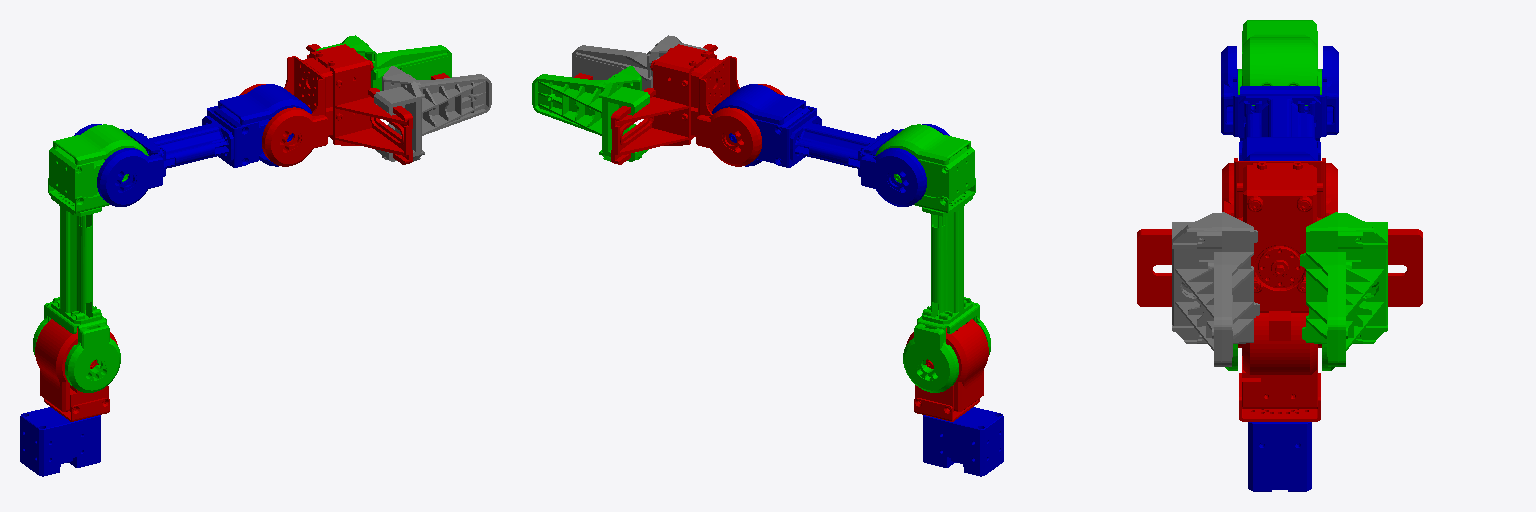
The robot description file, URDF, robot "open_manipulator":
<?xml version="1.0" ?>

<!-- ================================================================================================ -->
<!-- Note: This URDF file and associated content are based on files from the GitHub repository below. -->
<!--       Geometry files were converted as necessary to a format supported by Simscape Multibody.    -->
<!--       Adjustments were made to the URDF file for compatibility with Simscape Multibody.          -->
<!--                                                                                                  -->
<!--  GitHub source: https://github.com/ROBOTIS-GIT/open_manipulator/tree/2.0.1                       -->
<!-- ================================================================================================ -->

<!-- =================================================================================== -->
<!-- |    This document was autogenerated by xacro from open_manipulator.urdf.xacro    | -->
<!-- |    EDITING THIS FILE BY HAND IS NOT RECOMMENDED                                 | -->
<!-- =================================================================================== -->
<!--                                                                                                 -->
<!-- Note: This URDF file and associated content is based on files from the GitHub repository below. -->
<!--       Geometry files were converted as necessary to a format supported by Simscape Multibody.   -->
<!--       Adjustments were made to the URDF file for compatibility with Simscape Multibody.         -->
<!--                                                                                                 -->
<!-- GitHub source: https://github.com/ROBOTIS-GIT/open_manipulator/tree/2.0.1                       -->
<!--                                                                                                 -->
<!--                                                                                                 -->
<!-- Open_Manipulator Chain -->         
<robot name="open_manipulator" xmlns:xacro="http://ros.org/wiki/xacro">
  <!-- World -->
  <gazebo reference="world">
  </gazebo>
  <gazebo reference="link1">
    <kp>1000000.0</kp>
    <kd>100.0</kd>
    <mu1>30.0</mu1>
    <mu2>30.0</mu2>
    <maxVel>1.0</maxVel>
    <minDepth>0.001</minDepth>
    <material>Gazebo/DarkGrey</material>
  </gazebo>
  <gazebo reference="link2">
    <kp>1000000.0</kp>
    <kd>100.0</kd>
    <mu1>30.0</mu1>
    <mu2>30.0</mu2>
    <maxVel>1.0</maxVel>
    <minDepth>0.001</minDepth>
    <material>Gazebo/DarkGrey</material>
  </gazebo>
  <gazebo reference="link3">
    <kp>1000000.0</kp>
    <kd>100.0</kd>
    <mu1>30.0</mu1>
    <mu2>30.0</mu2>
    <maxVel>1.0</maxVel>
    <minDepth>0.001</minDepth>
    <material>Gazebo/DarkGrey</material>
  </gazebo>
  <gazebo reference="link4">
    <kp>1000000.0</kp>
    <kd>100.0</kd>
    <mu1>30.0</mu1>
    <mu2>30.0</mu2>
    <maxVel>1.0</maxVel>
    <minDepth>0.001</minDepth>
    <material>Gazebo/DarkGrey</material>
  </gazebo>
  <gazebo reference="link5">
    <kp>1000000.0</kp>
    <kd>100.0</kd>
    <mu1>30.0</mu1>
    <mu2>30.0</mu2>
    <maxVel>1.0</maxVel>
    <minDepth>0.001</minDepth>
    <material>Gazebo/DarkGrey</material>
  </gazebo>
  <gazebo reference="gripper_link">
    <kp>1000000.0</kp>
    <kd>100.0</kd>
    <mu1>30.0</mu1>
    <mu2>30.0</mu2>
    <maxVel>1.0</maxVel>
    <minDepth>0.001</minDepth>
    <material>Gazebo/DarkGrey</material>
  </gazebo>
  <gazebo reference="gripper_link_sub">
    <kp>1000000.0</kp>
    <kd>100.0</kd>
    <mu1>30.0</mu1>
    <mu2>30.0</mu2>
    <maxVel>1.0</maxVel>
    <minDepth>0.001</minDepth>
    <material>Gazebo/DarkGrey</material>
  </gazebo>
  <!-- end effector link -->
  <gazebo reference="end_effector_link">
    <material>Gazebo/Red</material>
  </gazebo>
  <!-- ros_control plugin -->
  <gazebo>
    <plugin filename="libgazebo_ros_control.so" name="gazebo_ros_control">
      <robotNamespace>open_manipulator</robotNamespace>
      <controlPeriod>0.001</controlPeriod>
      <robotSimType>gazebo_ros_control/DefaultRobotHWSim</robotSimType>
    </plugin>
  </gazebo>
  <material name="black">
    <color rgba="0.0 0.0 0.0 1.0"/>
  </material>
  <material name="white">
    <color rgba="1.0 1.0 1.0 1.0"/>
  </material>
  <material name="red">
    <color rgba="0.8 0.0 0.0 1.0"/>
  </material>
  <material name="blue">
    <color rgba="0.0 0.0 0.8 1.0"/>
  </material>
  <material name="green">
    <color rgba="0.0 0.8 0.0 1.0"/>
  </material>
  <material name="grey">
    <color rgba="0.5 0.5 0.5 1.0"/>
  </material>
  <material name="orange">
    <color rgba="1.0 0.423529411765 0.0392156862745 1.0"/>
  </material>
  <material name="brown">
    <color rgba="0.870588235294 0.811764705882 0.764705882353 1.0"/>
  </material>
  <!-- World -->
  <link name="world">
  </link>
  <!-- World fixed joint-->
  <joint name="world_fixed" type="fixed">
    <origin rpy="0 0 0" xyz="0 0 0"/>
    <parent link="world"/>
    <child link="link1"/>
  </joint>
  <!-- Link 1 -->
  <link name="link1">
    <visual>
      <origin rpy="0 0 0" xyz="0 0 0"/>
      <geometry>
        <mesh filename="robOpMa_chain_link1.stl"/>
      </geometry>
      <material name="blue"/>
    </visual>
    <collision>
      <origin rpy="0 0 0" xyz="0 0 0"/>
      <geometry>
        <mesh filename="package://open_manipulator_description/meshes/chain_link1.stl"/>
      </geometry>
    </collision>
    <!--    <inertial>
      <origin xyz="0 0 0" />
      <mass value="0.082" />
      <inertia ixx="0.1" ixy="0.0" ixz="0.0"
               iyy="0.1" iyz="0.0"
               izz="0.1" />
    </inertial>-->
    <inertial>
      <origin xyz="3.0876154e-04 0.0000000e+00 -1.2176461e-04"/>
      <mass value="7.9119962e-02"/>
      <inertia ixx="1.2505234e-05" ixy="0.0" ixz="-1.7855208e-07" iyy="2.1898364e-05" iyz="0.0" izz="1.9267361e-05"/>
    </inertial>
  </link>
  <!-- Joint 1 -->
  <joint name="joint1" type="revolute">
    <parent link="link1"/>
    <child link="link2"/>
    <origin rpy="0 0 0" xyz="0.012 0.0 0.017"/>
    <axis xyz="0 0 1"/>
    <limit effort="1" lower="-2.82743338823" upper="2.82743338823" velocity="4.8"/>
  </joint>
  <transmission name="tran1">
    <type>transmission_interface/SimpleTransmission</type>
    <joint name="joint1">
      <hardwareInterface>hardware_interface/PositionJointInterface</hardwareInterface>
    </joint>
    <actuator name="motor1">
      <hardwareInterface>hardware_interface/PositionJointInterface</hardwareInterface>
      <mechanicalReduction>1</mechanicalReduction>
    </actuator>
  </transmission>
  <!--  Link 2 -->
  <link name="link2">
    <visual>
      <origin rpy="0 0 0" xyz="0 0 0.019"/>
      <geometry>
        <mesh filename="robOpMa_chain_link2.stl"/>
      </geometry>
      <material name="red"/>
    </visual>
    <collision>
      <origin rpy="0 0 0" xyz="0 0 0.019"/>
      <geometry>
        <mesh filename="package://open_manipulator_description/meshes/chain_link2.stl"/>
      </geometry>
    </collision>
    <!--    <inertial>
      <origin xyz="0 0 0" />
      <mass value="0.098" />
      <inertia ixx="0.1" ixy="0.0" ixz="0.0"
               iyy="0.1" iyz="0.0"
               izz="0.1" />
    </inertial>-->
    <inertial>
      <origin xyz="-3.0184870e-04 5.4043684e-04 0.047433464"/>
      <mass value="9.8406837e-02"/>
      <inertia ixx="3.4543422e-05" ixy="-1.6031095e-08" ixz="-3.8375155e-07" iyy="3.2689329e-05" iyz="2.8511935e-08" izz="1.8850320e-05"/>
    </inertial>
  </link>
  <!--  Joint 2 -->
  <joint name="joint2" type="revolute">
    <parent link="link2"/>
    <child link="link3"/>
    <origin rpy="0 0 0" xyz="0.0 0.0 0.0595"/>
    <axis xyz="0 1 0"/>
    <limit effort="1" lower="-1.79070781255" upper="1.57079632679" velocity="4.8"/>
  </joint>
  <transmission name="tran2">
    <type>transmission_interface/SimpleTransmission</type>
    <joint name="joint2">
      <hardwareInterface>hardware_interface/PositionJointInterface</hardwareInterface>
    </joint>
    <actuator name="motor2">
      <hardwareInterface>hardware_interface/PositionJointInterface</hardwareInterface>
      <mechanicalReduction>1</mechanicalReduction>
    </actuator>
  </transmission>
  <!--  Link 3 -->
  <link name="link3">
    <visual>
      <origin rpy="0 0 0" xyz="0 0 0"/>
      <geometry>
        <mesh filename="robOpMa_chain_link3.stl"/>
      </geometry>
      <material name="green"/>
    </visual>
    <collision>
      <origin rpy="0 0 0" xyz="0 0 0"/>
      <geometry>
        <mesh filename="package://open_manipulator_description/meshes/chain_link3.stl"/>
      </geometry>
    </collision>
    <!--    <inertial>
      <origin xyz="0 0 0" />
      <mass value="0.136" />
      <inertia ixx="0.1" ixy="0.0" ixz="0.0"
               iyy="0.1" iyz="0.0"
               izz="0.1" />
    </inertial>-->
    <inertial>
      <origin xyz="1.0308393e-02 3.7743363e-04 1.0170197e-01"/>
      <mass value="1.3850917e-01"/>
      <inertia ixx="3.3055381e-04" ixy="-9.7940978e-08" ixz="-3.8505711e-05" iyy="3.4290447e-04" iyz="-1.5717516e-06" izz="6.0346498e-05"/>
    </inertial>
  </link>
  <!--  Joint 3 -->
  <joint name="joint3" type="revolute">
    <parent link="link3"/>
    <child link="link4"/>
    <origin rpy="0 0 0" xyz="0.024 0 0.128"/>
    <axis xyz="0 1 0"/>
    <limit effort="1" lower="-0.942477796077" upper="1.38230076758" velocity="4.8"/>
  </joint>
  <transmission name="tran3">
    <type>transmission_interface/SimpleTransmission</type>
    <joint name="joint3">
      <hardwareInterface>hardware_interface/PositionJointInterface</hardwareInterface>
    </joint>
    <actuator name="motor3">
      <hardwareInterface>hardware_interface/PositionJointInterface</hardwareInterface>
      <mechanicalReduction>1</mechanicalReduction>
    </actuator>
  </transmission>
  <!--  Link 4 -->
  <link name="link4">
    <visual>
      <origin rpy="0 0 0" xyz="0 0 0"/>
      <geometry>
        <mesh filename="robOpMa_chain_link4.stl"/>
      </geometry>
      <material name="blue"/>
    </visual>
    <collision>
      <origin rpy="0 0 0" xyz="0 0 0"/>
      <geometry>
        <mesh filename="package://open_manipulator_description/meshes/chain_link4.stl"/>
      </geometry>
    </collision>
    <!--    <inertial>
      <origin xyz="0 0 0" />
      <mass value="0.131" />
      <inertia ixx="0.1" ixy="0.0" ixz="0.0"
               iyy="0.1" iyz="0.0"
               izz="0.1" />
    </inertial>-->
    <inertial>
      <origin xyz="9.0909590e-02 3.8929816e-04 2.2413279e-04"/>
      <mass value="1.3274562e-01"/>
      <inertia ixx="3.0654178e-05" ixy="-1.2764155e-06" ixz="-2.6874417e-07" iyy="2.4230292e-04" iyz="1.1559550e-08" izz="2.5155057e-04"/>
    </inertial>
  </link>
  <!--  Joint 4 -->
  <joint name="joint4" type="revolute">
    <parent link="link4"/>
    <child link="link5"/>
    <origin rpy="0 0 0" xyz="0.124 0.0 0.0"/>
    <axis xyz="0 1 0"/>
    <limit effort="1" lower="-1.79070781255" upper="2.04203522483" velocity="4.8"/>
  </joint>
  <transmission name="tran4">
    <type>transmission_interface/SimpleTransmission</type>
    <joint name="joint4">
      <hardwareInterface>hardware_interface/PositionJointInterface</hardwareInterface>
    </joint>
    <actuator name="motor4">
      <hardwareInterface>hardware_interface/PositionJointInterface</hardwareInterface>
      <mechanicalReduction>1</mechanicalReduction>
    </actuator>
  </transmission>
  <!--  Link 5 -->
  <link name="link5">
    <visual>
      <origin rpy="0 0 0" xyz="0 0 0"/>
      <geometry>
        <mesh filename="robOpMa_chain_link5.stl"/>
      </geometry>
      <material name="red"/>
    </visual>
    <collision>
      <origin rpy="0 0 0" xyz="0 0 0"/>
      <geometry>
        <mesh filename="package://open_manipulator_description/meshes/chain_link5.stl"/>
      </geometry>
    </collision>
    <!--    <inertial>
      <origin xyz="0 0 0" />
      <mass value="0.141" />
      <inertia ixx="0.1" ixy="0.0" ixz="0.0"
               iyy="0.1" iyz="0.0"
               izz="0.1" />
    </inertial>-->
    <inertial>
      <origin xyz="4.4206755e-02 3.6839985e-07 8.9142216e-03"/>
      <mass value="1.4327573e-01"/>
      <inertia ixx="8.0870749e-05" ixy="0.0" ixz="-1.0157896e-06" iyy="7.5980465e-05" iyz="0.0" izz="9.3127351e-05"/>
    </inertial>
  </link>
  <!--  Gripper link -->
  <link name="gripper_link">
    <visual>
      <origin rpy="0 0 0" xyz="0.0 0.0 0"/>
      <geometry>
        <mesh filename="robOpMa_chain_link_grip_l.stl"/>
      </geometry>
      <material name="green"/>
    </visual>
    <collision>
      <origin rpy="0 0 0" xyz="0.0 0.0 0"/>
      <geometry>
        <mesh filename="package://open_manipulator_description/meshes/chain_link_grip_l.stl"/>
      </geometry>
    </collision>
    <inertial>
      <origin xyz="0 0 0"/>
      <mass value="0.017"/>
      <inertia ixx="1.0e-03" ixy="0.0" ixz="0.0" iyy="1.0e-03" iyz="0.0" izz="1.0e-03"/>
    </inertial>
    <!--     <inertial>
      <origin xyz="${0.028 + 8.3720668e-03} ${0.0246 + 9.9696160e-03} -4.2836895e-07" />
      <mass value="3.2218127e-02" />
      <inertia ixx="9.5568826e-06" ixy="2.8424644e-06" ixz="-3.2829197e-10"
               iyy="2.2552871e-05" iyz="-3.1463634e-10"
               izz="1.7605306e-05" />
    </inertial>-->
  </link>
  <!--  Gripper joint -->
  <joint name="gripper" type="prismatic">
    <parent link="link5"/>
    <child link="gripper_link"/>
    <origin rpy="0 0 0" xyz="0.0817 0.021 0.0"/>
    <axis xyz="0 1 0"/>
    <limit effort="1" lower="-0.010" upper="0.019" velocity="4.8"/>
  </joint>
  <transmission name="tran5">
    <type>transmission_interface/SimpleTransmission</type>
    <joint name="gripper">
      <hardwareInterface>hardware_interface/PositionJointInterface</hardwareInterface>
    </joint>
    <actuator name="motor5">
      <hardwareInterface>hardware_interface/PositionJointInterface</hardwareInterface>
      <mechanicalReduction>1</mechanicalReduction>
    </actuator>
  </transmission>
  <!--  Gripper link sub -->
  <link name="gripper_link_sub">
    <visual>
      <origin rpy="0 0 0" xyz="0.0 -0.0 0"/>
      <geometry>
        <mesh filename="robOpMa_chain_link_grip_r.stl"/>
      </geometry>
      <material name="grey"/>
    </visual>
    <collision>
      <origin rpy="0 0 0" xyz="0.0 -0.0 0"/>
      <geometry>
        <mesh filename="package://open_manipulator_description/meshes/chain_link_grip_r.stl"/>
      </geometry>
    </collision>
    <inertial>
      <origin xyz="0 0 0"/>
      <mass value="0.017"/>
      <inertia ixx="1.0e-03" ixy="0.0" ixz="0.0" iyy="1.0e-03" iyz="0.0" izz="1.0e-03"/>
    </inertial>
    <!--     <inertial>
      <origin xyz="${0.028 + 8.3720668e-03} ${-0.0246 - 9.9696160e-03} -4.2836895e-07" />
      <mass value="3.2218127e-02" />
      <inertia ixx="9.5568826e-06" ixy="2.8424644e-06" ixz="-3.2829197e-10"
               iyy="2.2552871e-05" iyz="-3.1463634e-10"
               izz="1.7605306e-05" />
    </inertial>-->
  </link>
  <!--  Gripper joint sub -->
  <joint name="gripper_sub" type="prismatic">
    <parent link="link5"/>
    <child link="gripper_link_sub"/>
    <origin rpy="0 0 0" xyz="0.0817 -0.021 0"/>
    <axis xyz="0 -1 0"/>
    <limit effort="1" lower="-0.010" upper="0.019" velocity="4.8"/>
    <mimic joint="gripper" multiplier="1"/>
  </joint>
  <transmission name="tran6">
    <type>transmission_interface/SimpleTransmission</type>
    <joint name="gripper_sub">
      <hardwareInterface>hardware_interface/PositionJointInterface</hardwareInterface>
    </joint>
    <actuator name="motor6">
      <hardwareInterface>hardware_interface/PositionJointInterface</hardwareInterface>
      <mechanicalReduction>1</mechanicalReduction>
    </actuator>
  </transmission>
  <!-- end effector joint -->
  <joint name="end_effector_joint" type="fixed">
    <origin rpy="0 0 0" xyz="0.126 0.0 0.0"/>
    <parent link="link5"/>
    <child link="end_effector_link"/>
  </joint>
  <!-- end effector link -->
  <link name="end_effector_link">
    <visual>
      <origin rpy="0 0 0" xyz="0 0 0"/>
      <geometry>
        <box size="0.01 0.01 0.01"/>
      </geometry>
      <material name="red"/>
    </visual>
    <inertial>
      <origin rpy="0 0 0" xyz="0.0 0.0 0.0"/>
      <mass value="0.001"/>
      <inertia ixx="1.0e-06" ixy="0.0" ixz="0.0" iyy="1.0e-06" iyz="0.0" izz="1.0e-06"/>
    </inertial>
  </link>
</robot>

--- What the picture shows (computed from the rendered views, not written in the file) ---
The picture shows the robot from 3 angles, left to right: view 1: azimuth 30°, elevation 25°; view 2: azimuth 150°, elevation 25°; view 3: azimuth 270°, elevation 25°; orthographic projection.
Robot: open_manipulator — 9 links, 8 joints (4 revolute, 2 prismatic, 2 fixed); root link world; default pose: every joint at zero.
Visible links, largest first — view 1: link3, link5, link4, gripper_link_sub, link1, link2, gripper_link; view 2: link3, link5, link4, gripper_link, link1, link2, gripper_link_sub; view 3: link5, gripper_link, gripper_link_sub, link4, link2, link3, link1, end_effector_link.
Link boxes in pixels (left/top/right/bottom): link3: left=33, top=124, right=148, bottom=392; link5: left=239, top=44, right=412, bottom=166; link4: left=74, top=84, right=311, bottom=206; gripper_link_sub: left=374, top=66, right=491, bottom=161; link1: left=20, top=407, right=100, bottom=476; link2: left=35, top=319, right=117, bottom=421; gripper_link: left=316, top=35, right=451, bottom=90; link3: left=875, top=124, right=990, bottom=392; link5: left=611, top=44, right=784, bottom=166; link4: left=712, top=84, right=949, bottom=206; gripper_link: left=532, top=66, right=649, bottom=161; link1: left=923, top=407, right=1003, bottom=476; link2: left=906, top=319, right=988, bottom=421; gripper_link_sub: left=572, top=35, right=707, bottom=90; link5: left=1137, top=158, right=1422, bottom=312; gripper_link: left=1300, top=212, right=1387, bottom=366; gripper_link_sub: left=1172, top=212, right=1259, bottom=366; link4: left=1221, top=46, right=1338, bottom=160; link2: left=1238, top=313, right=1321, bottom=421; link3: left=1225, top=20, right=1334, bottom=370; link1: left=1248, top=422, right=1311, bottom=491; end_effector_link: left=1269, top=311, right=1290, bottom=340.
Size in the robot's own frame: 0.33 by 0.1286 by 0.2442 metres.
7 mesh visuals loaded from 7 distinct referenced files (7 binary STL).